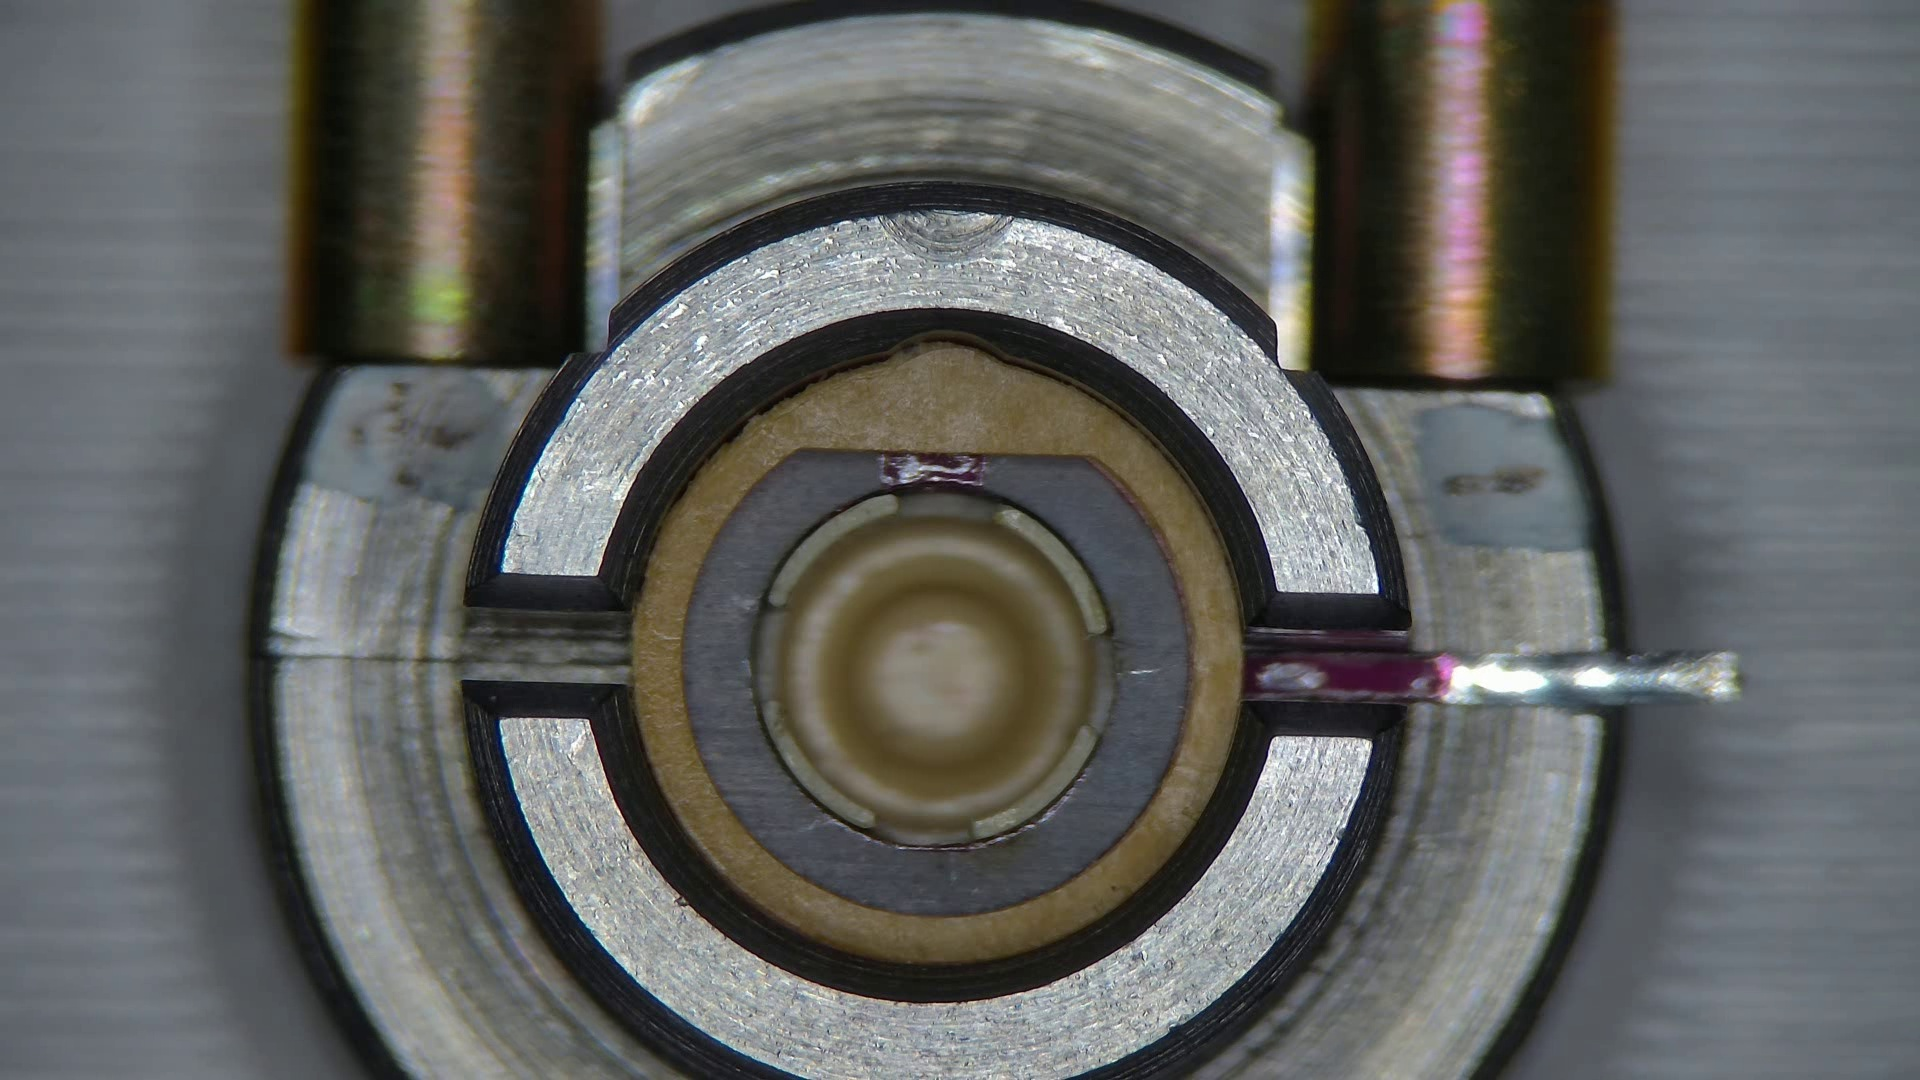YellowOring: (684, 451, 1188, 916)
redOring: (632, 344, 1246, 963)
